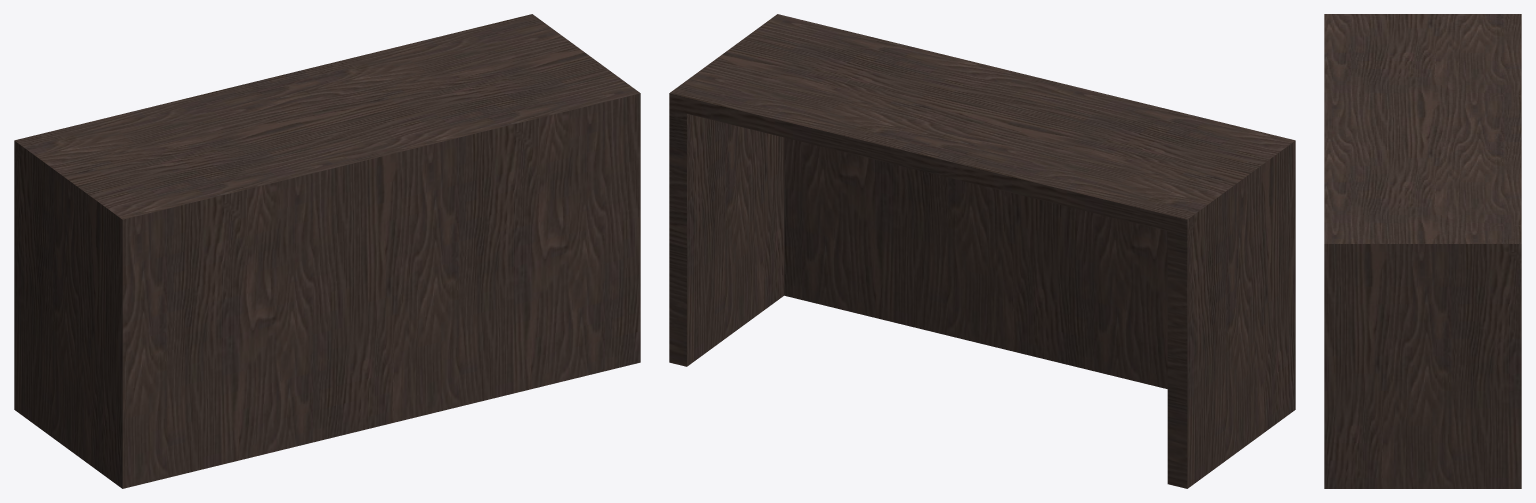
3 renders of one model, left to right at view 1: azimuth 30°, elevation 25°; view 2: azimuth 150°, elevation 25°; view 3: azimuth 270°, elevation 25°, orthographic. The views are drawn at different scales.
Visible parts, largest first — view 1: Table_15002_Wood_10003_0; view 2: Table_15002_Wood_10003_0; view 3: Table_15002_Wood_10003_0.
Part boxes in pixels (box(x1,y1,x2,y2)): Table_15002_Wood_10003_0: box(14, 14, 640, 488); Table_15002_Wood_10003_0: box(669, 14, 1295, 488); Table_15002_Wood_10003_0: box(1324, 14, 1521, 488).
Size of the model in its own units: 1.66 by 0.8249 by 0.6016.
Materials: 1 (1 with a texture image).
